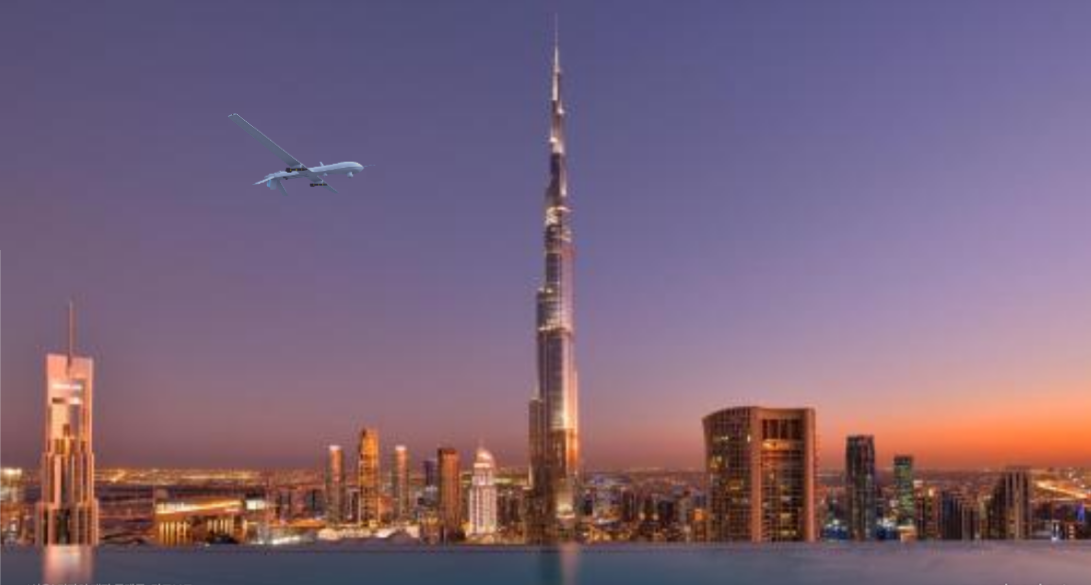military drone: (227, 112, 376, 194)
